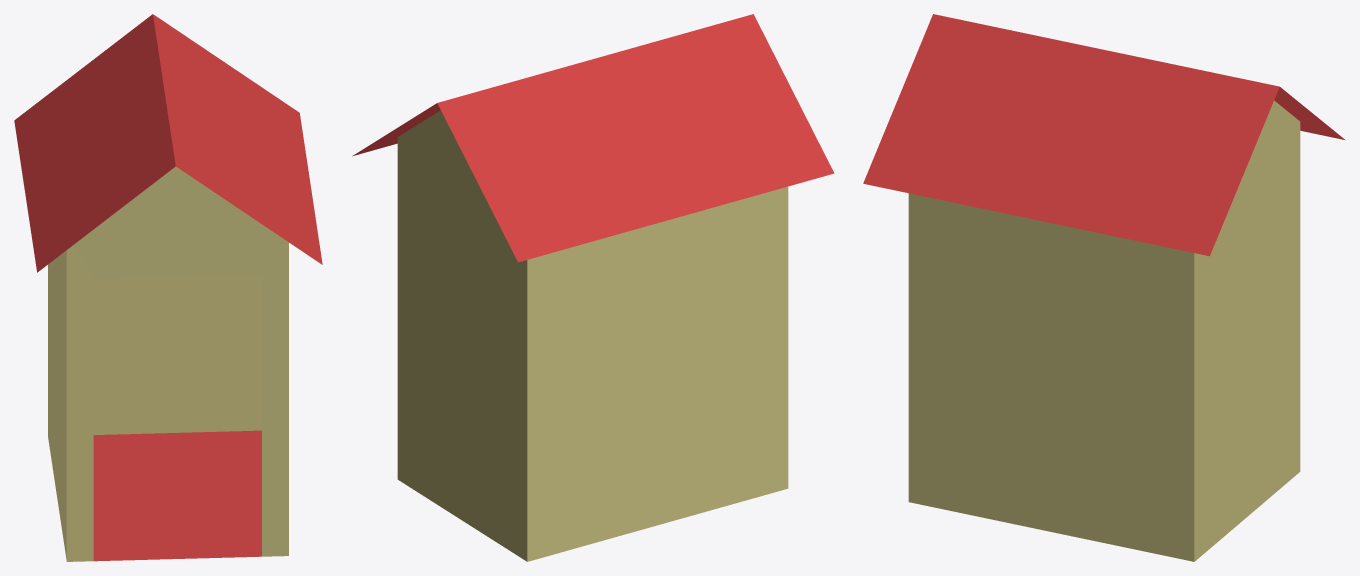
3 renders of one model, left to right at view 1: azimuth 30°, elevation 25°; view 2: azimuth 150°, elevation 25°; view 3: azimuth 270°, elevation 25°, orthographic. The views are drawn at different scales.
Visible parts, largest first — view 1: group_5, group_3, group_6, group_4; view 2: group_5, group_3, group_4; view 3: group_5, group_3.
Boxes of the visible parts, x1,y1,x2,y2 form: group_5: [48, 166, 288, 561]; group_3: [14, 14, 322, 272]; group_6: [93, 430, 261, 561]; group_4: [14, 14, 192, 193]; group_5: [397, 110, 788, 561]; group_3: [447, 14, 834, 261]; group_4: [352, 95, 702, 262]; group_5: [908, 100, 1300, 561]; group_3: [863, 14, 1344, 256].
Size of the model in its own units: 13.14 by 14.21 by 14.12.
